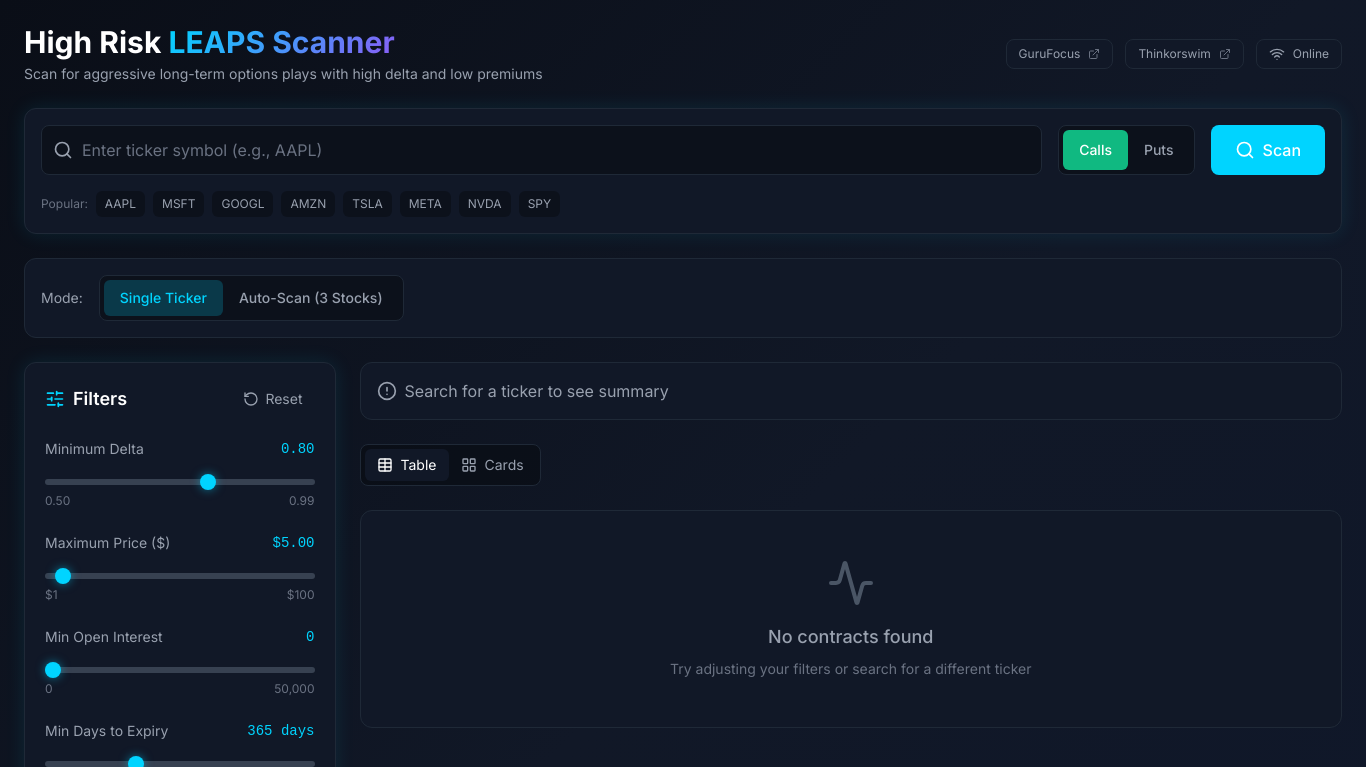
Test: OptionScanner Integration › Search Functionality › should show error when searching with empty input
The width and height of the screenshot is (1366, 767).
Click the button "Scan" at (1268, 150), box 1211,125 -> 1325,175
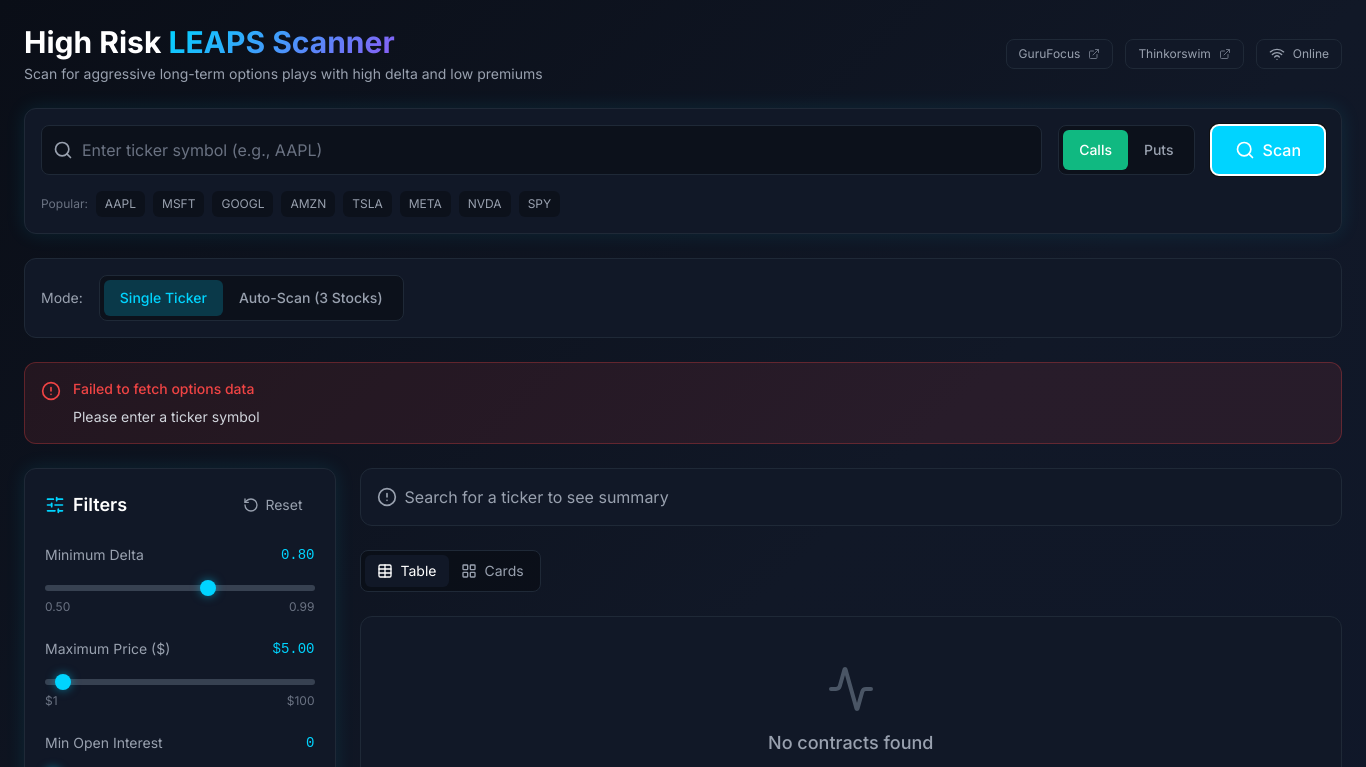
Expected: the text "Please enter a ticker symbol" is shown, 73,408 -> 260,425
